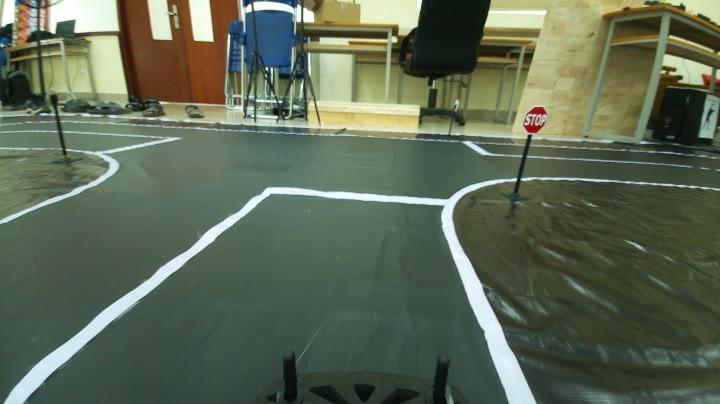stop: (518, 102, 548, 131)
